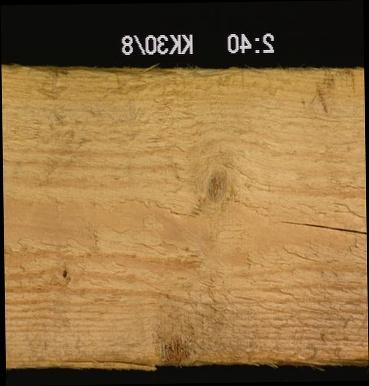edge_knot: (147, 323, 191, 369)
small_knot: (51, 264, 71, 279)
sound_knot: (188, 161, 233, 211)
split: (275, 215, 365, 238), (55, 350, 141, 365)
